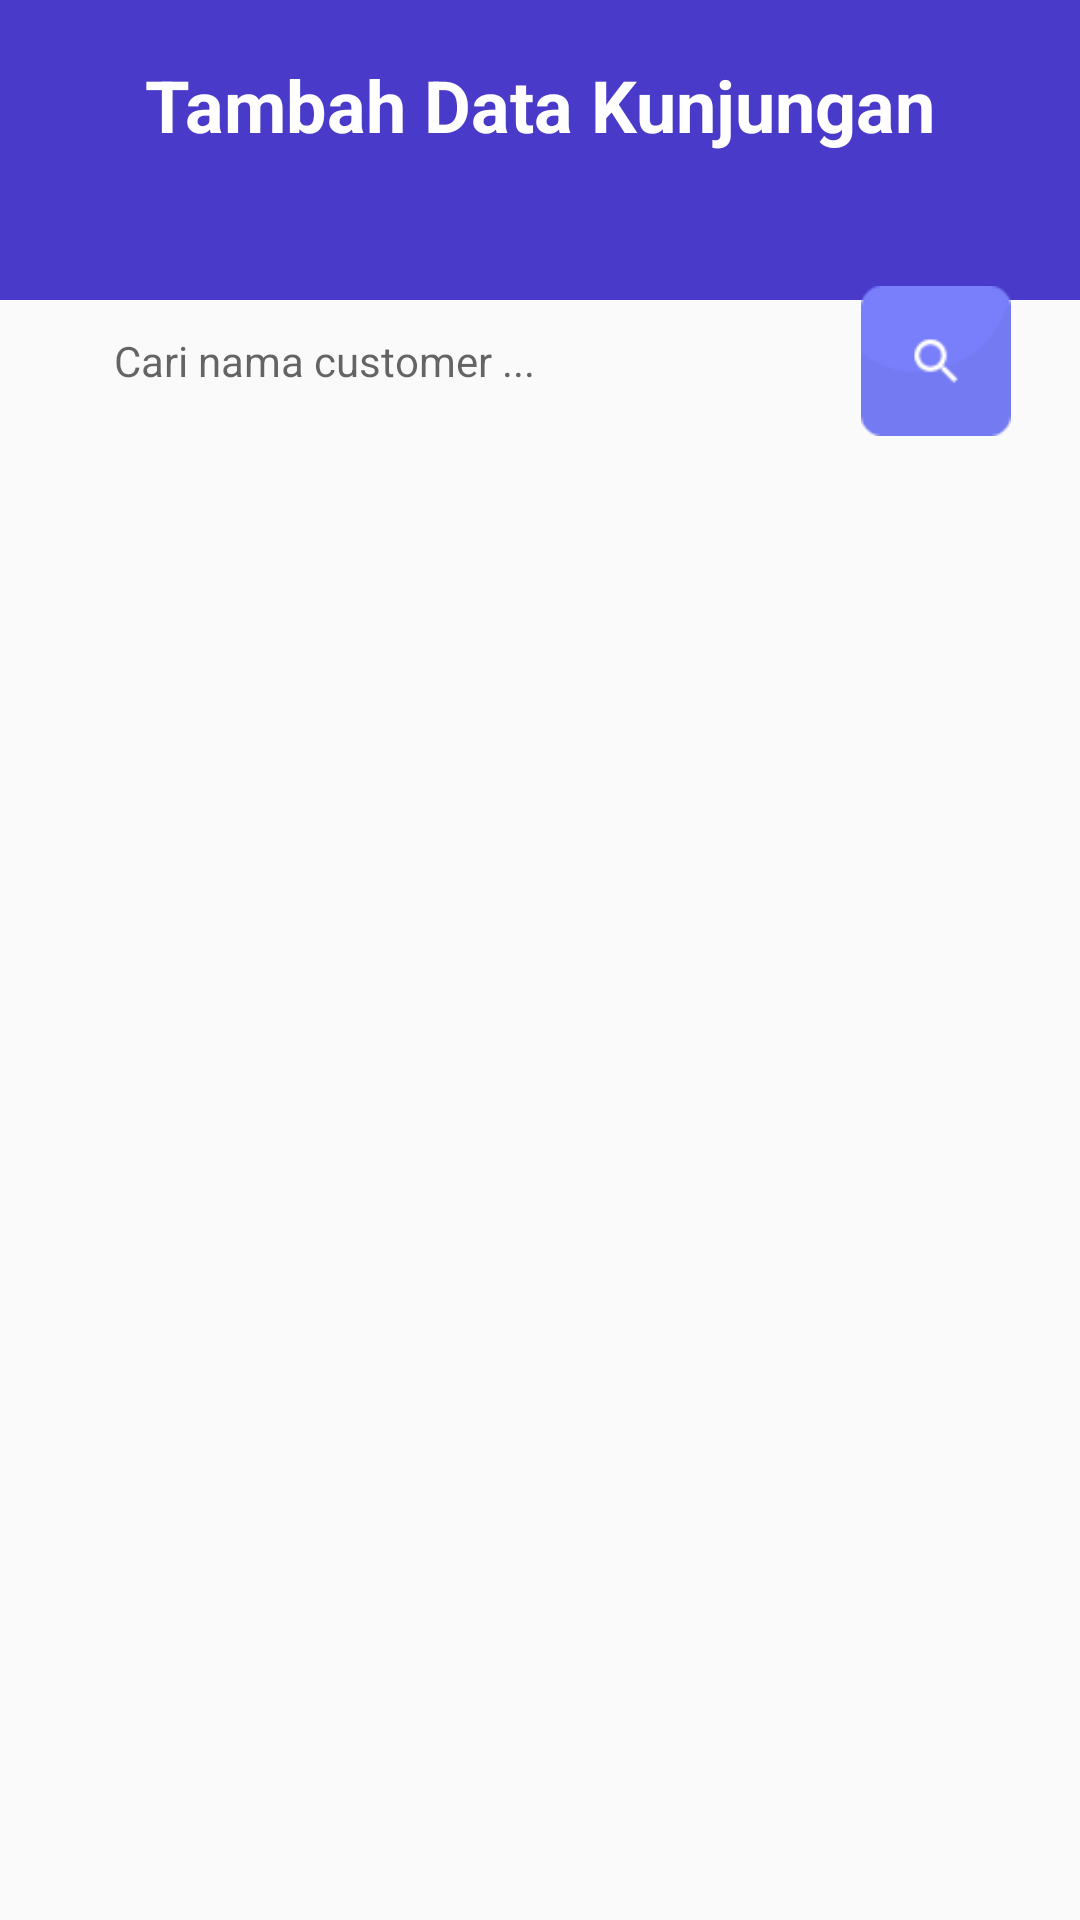

Screen size 1080px×1920px. Icon name, then its box in pixels as (x1, y1, x2, y2):
sales cari search: (861, 286, 1011, 436)
